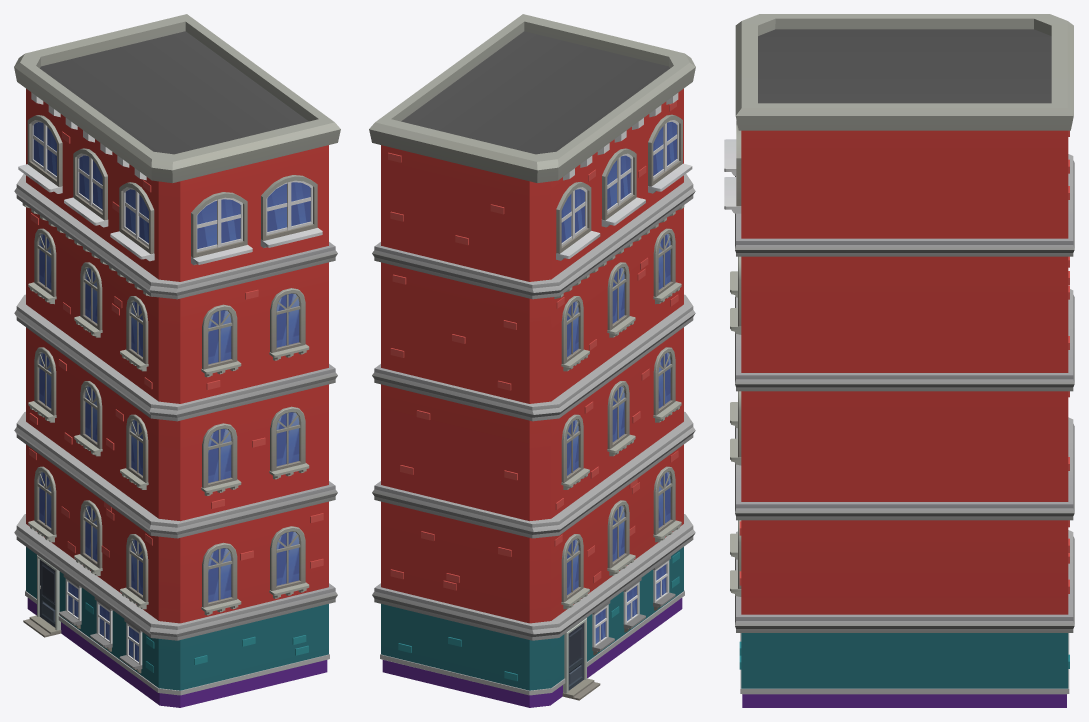
File: Building_18_1_E.fbx
3 views of the same model, side by side, from view 1: azimuth 30°, elevation 25°; view 2: azimuth 150°, elevation 25°; view 3: azimuth 270°, elevation 25° (orthographic). The views are drawn at different scales.
Visible parts, largest first — view 1: Building_18_1_E; view 2: Building_18_1_E; view 3: Building_18_1_E.
Part boxes in pixels (<box>): Building_18_1_E: <box>14,14,340,707</box>; Building_18_1_E: <box>369,14,695,707</box>; Building_18_1_E: <box>724,14,1074,707</box>.
Size of the model in its own units: 719 by 2014 by 1059.
